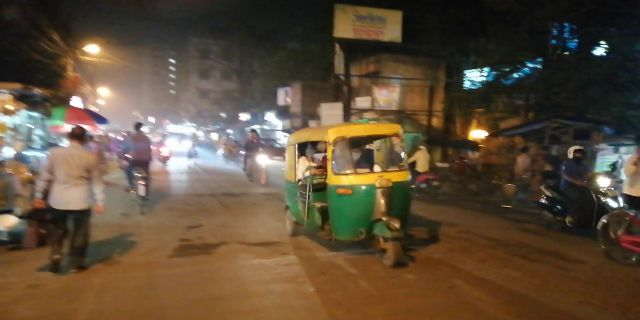Autorickshaw: (282, 112, 421, 263)
